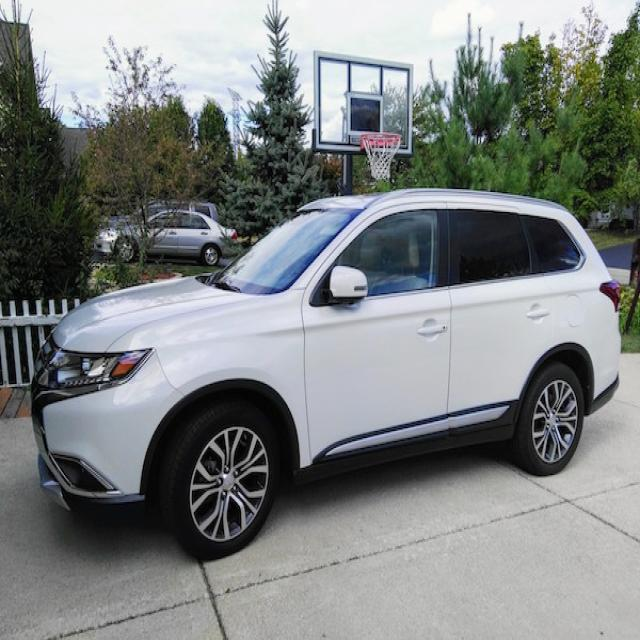light_vehicle: (30, 189, 624, 561)
